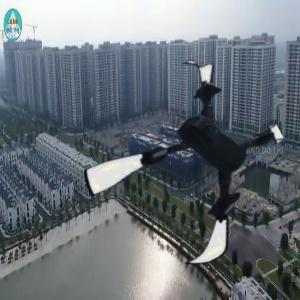drone: (87, 68, 287, 268)
